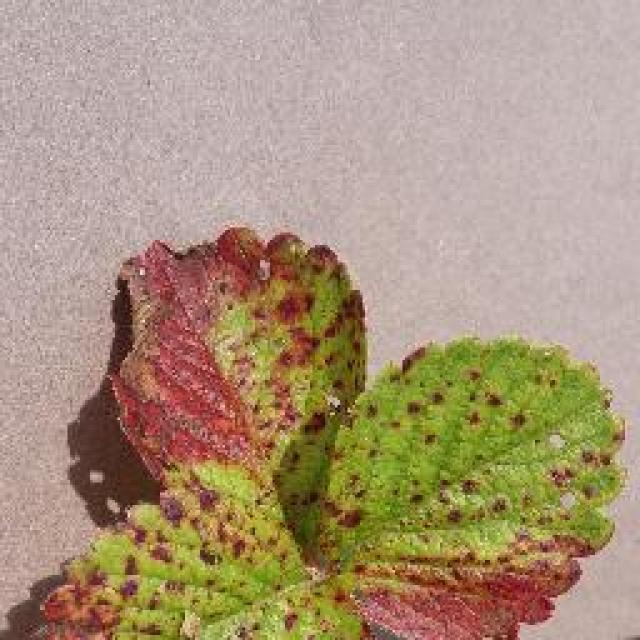Strawberry leaf scorch: (144, 270, 368, 583)
